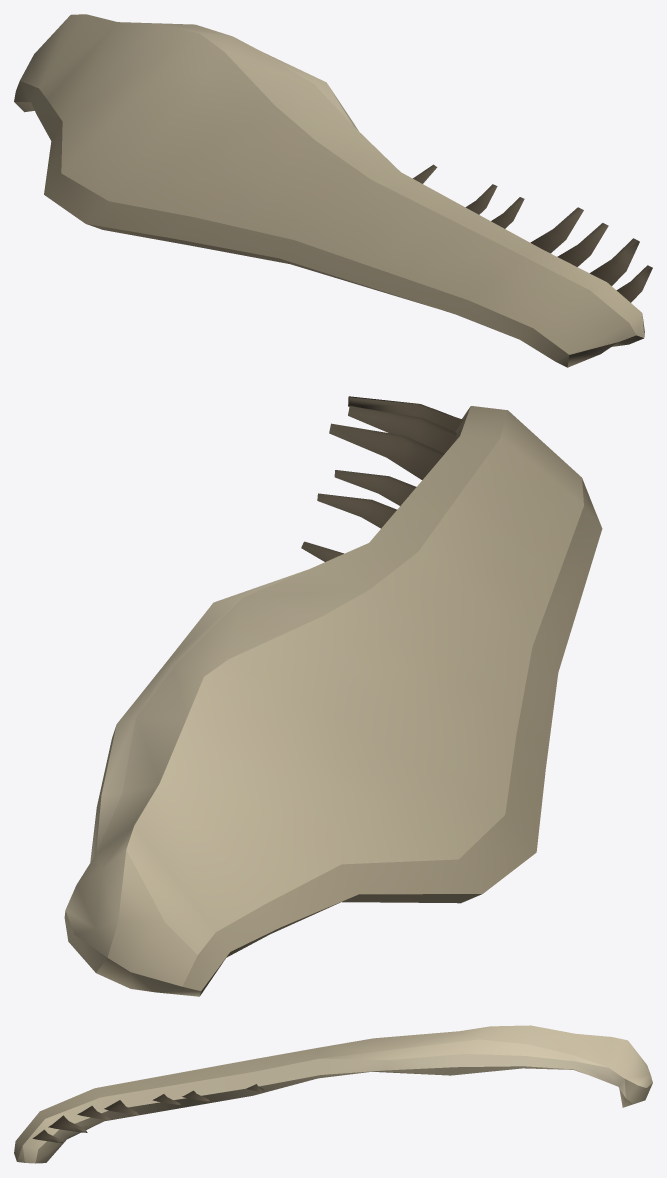
Rendered from Giant_Skull_3D.fbx.
The picture shows the model from 3 angles, top to bottom: view 1: azimuth 30°, elevation 25°; view 2: azimuth 150°, elevation 25°; view 3: azimuth 270°, elevation 25°; orthographic projection. The views are drawn at different scales.
Parts seen in each view (by area): view 1: Giant_Skull_3D; view 2: Giant_Skull_3D; view 3: Giant_Skull_3D.
Boxes of the visible parts, x1,y1,x2,y2 form: Giant_Skull_3D: [14, 14, 652, 367]; Giant_Skull_3D: [64, 396, 602, 996]; Giant_Skull_3D: [14, 1025, 652, 1163].
Size of the model in its own units: 83.69 by 30.66 by 177.
